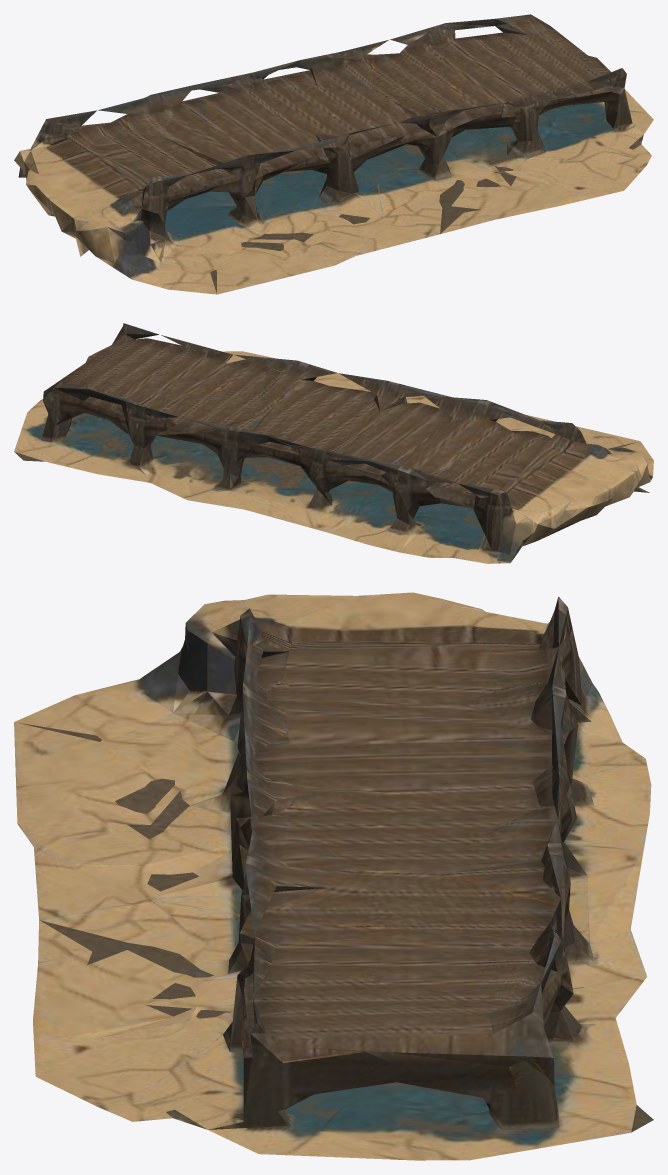
Rendered from boardwalk-bridge.lod.glb.
3 views of the same model, one above another, from view 1: azimuth 30°, elevation 25°; view 2: azimuth 150°, elevation 25°; view 3: azimuth 270°, elevation 25° (orthographic). The views are drawn at different scales.
Visible parts, largest first — view 1: output_unwrapped; view 2: output_unwrapped; view 3: output_unwrapped.
Boxes of the visible parts, x1,y1,x2,y2 form: output_unwrapped: (14, 14, 653, 294); output_unwrapped: (14, 323, 653, 563); output_unwrapped: (14, 592, 653, 1160).
Size of the model in its own units: 1.87 by 0.2155 by 1.
Materials: 1 (1 with a texture image).
